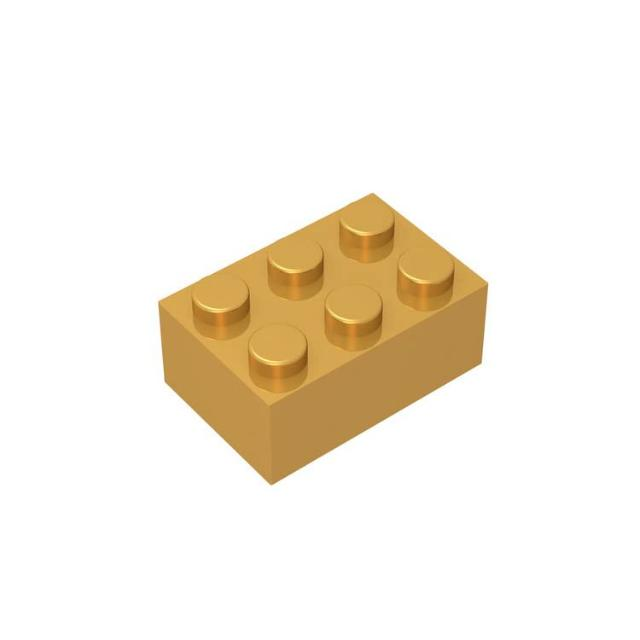2x3: (159, 195, 487, 483)
